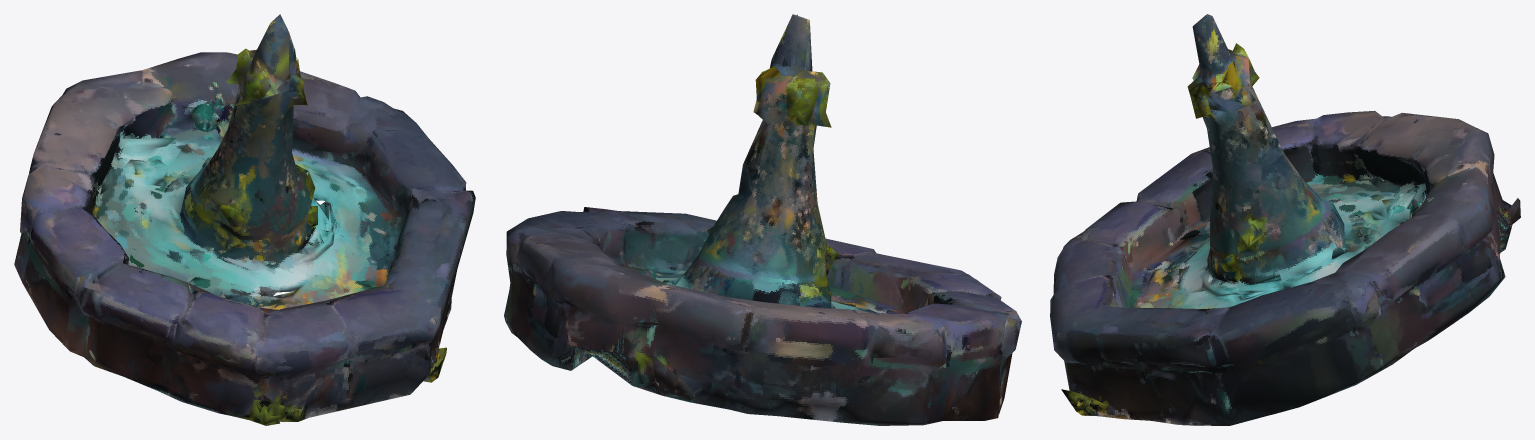
File: fountain-spire.glb
3 views of the same model, side by side, from view 1: azimuth 30°, elevation 25°; view 2: azimuth 150°, elevation 25°; view 3: azimuth 270°, elevation 25° (orthographic). The views are drawn at different scales.
Visible parts, largest first — view 1: fountain-212-2; view 2: fountain-212-2; view 3: fountain-212-2.
Part boxes in pixels (x1,y1,x2,y2): fountain-212-2: [14, 14, 475, 425]; fountain-212-2: [504, 14, 1021, 425]; fountain-212-2: [1050, 14, 1520, 425].
Bounding box in the file's own units: 1.95 × 1.64 × 1.95.
Materials: 1 (1 with a texture image).
